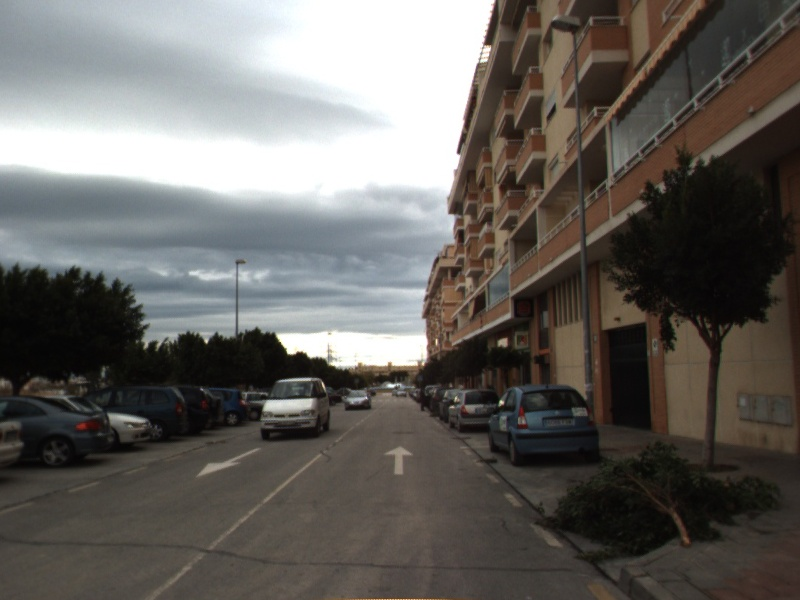STRAIGHT: (382, 444, 415, 477)
